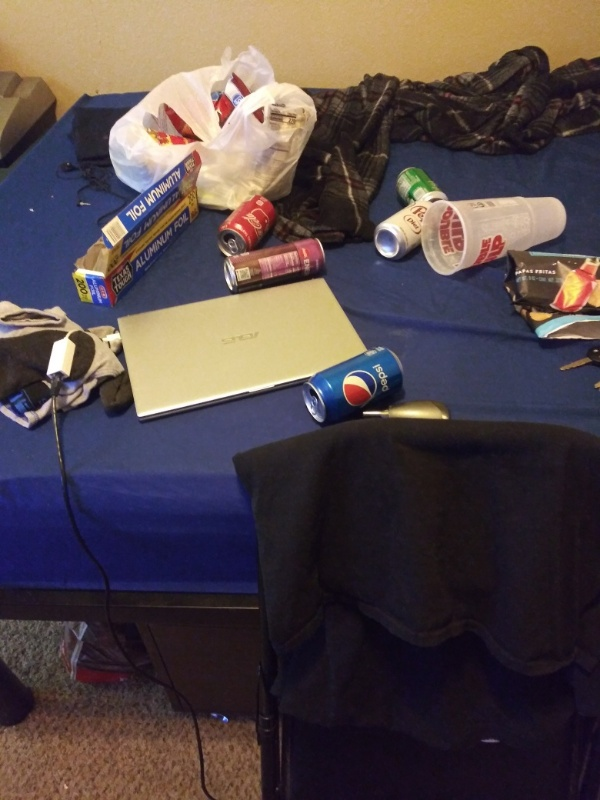can: (295, 341, 409, 425), (218, 236, 331, 293), (212, 192, 280, 257), (372, 199, 443, 258), (395, 163, 458, 211)
